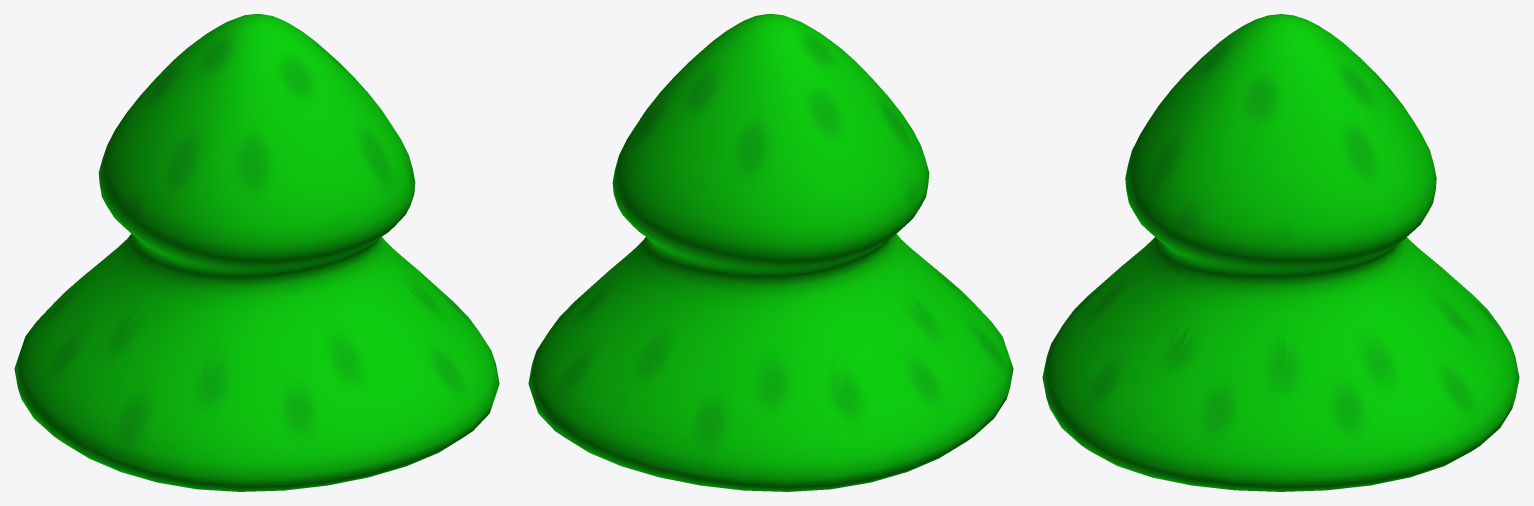
The model's file is Tree.fbx.
3 renders of one model, left to right at view 1: azimuth 30°, elevation 25°; view 2: azimuth 150°, elevation 25°; view 3: azimuth 270°, elevation 25°, orthographic.
Parts seen in each view (by area): view 1: Cube; view 2: Cube; view 3: Cube.
Part boxes in pixels (x1,y1,x2,y2): Cube: (14, 14, 499, 491); Cube: (528, 14, 1013, 491); Cube: (1042, 14, 1519, 491).
Size of the model in its own units: 194 by 198 by 194.
2 materials, 1 textured.
